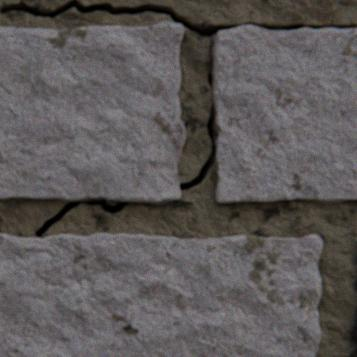brick: (0, 233, 321, 356), (0, 23, 184, 203), (212, 26, 356, 203), (350, 316, 356, 347), (355, 240, 356, 260)
crack: (0, 0, 356, 191), (34, 198, 136, 237), (143, 202, 160, 205)
